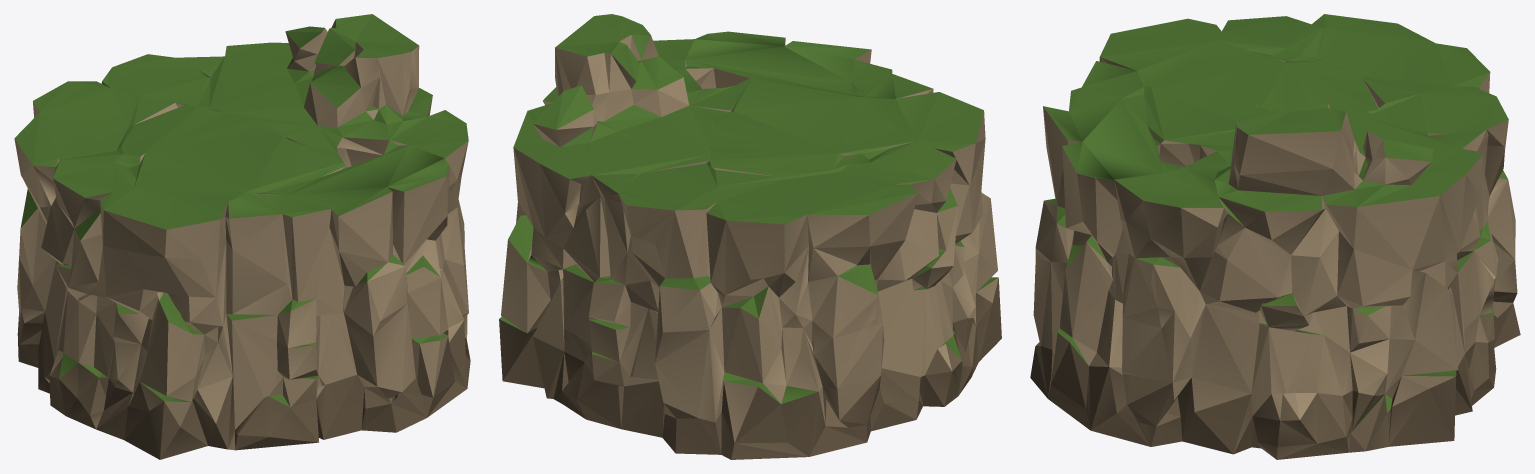
The model's file is ruin-cliff.glb.
3 renders of one model, left to right at view 1: azimuth 30°, elevation 25°; view 2: azimuth 150°, elevation 25°; view 3: azimuth 270°, elevation 25°, orthographic. The views are drawn at different scales.
Parts seen in each view (by area): view 1: ruin-cliff; view 2: ruin-cliff; view 3: ruin-cliff.
Part boxes in pixels (<box>): ruin-cliff: <box>14,14,470,459</box>; ruin-cliff: <box>499,14,1001,459</box>; ruin-cliff: <box>1030,14,1520,459</box>.
Bounding box in the file's own units: 31.19 × 22 × 31.29.
